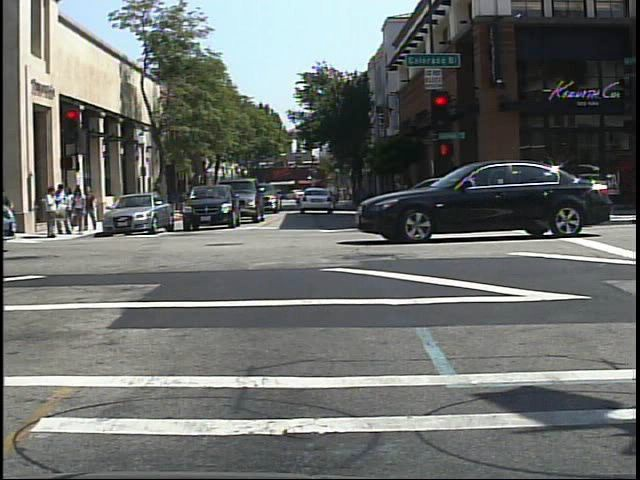person: (147, 182, 165, 218)
